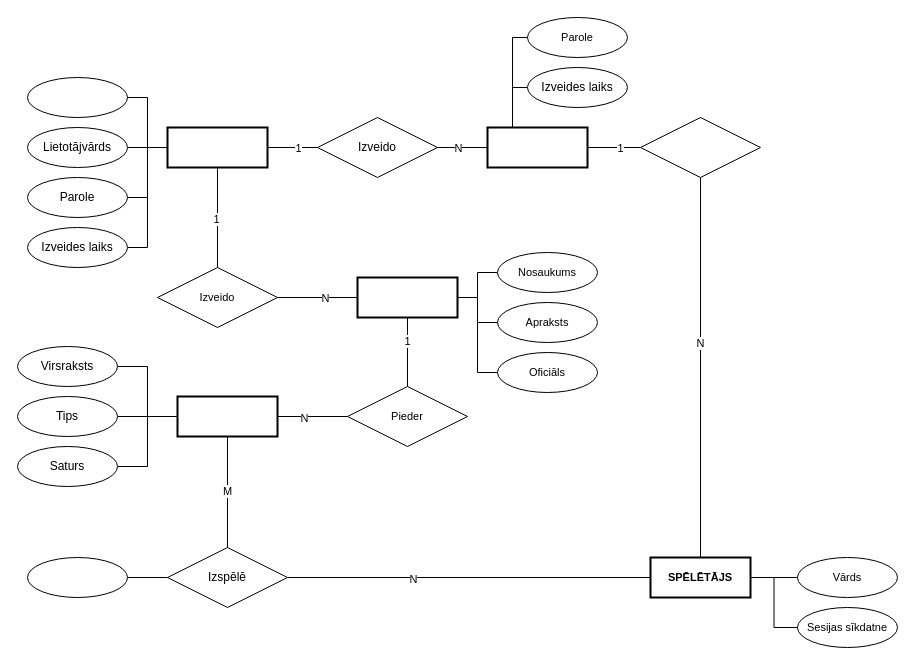
The diagram is 915 pixels wide and 665 high, and some of its shapes have lost their labels. The centre of each missing label's shape, as x and y in pixels:
Datums: the point at 77,577
E-pasts: the point at 77,97
KĀRŠU KOMPLEKTS: the point at 407,297
LIETOTĀJS: the point at 217,147
Pievienojas: the point at 700,147
SPĒLE: the point at 537,147
SPĒLES KĀRTS: the point at 227,416
